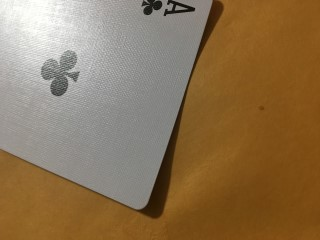AceOfClubs: (1, 1, 212, 210)
